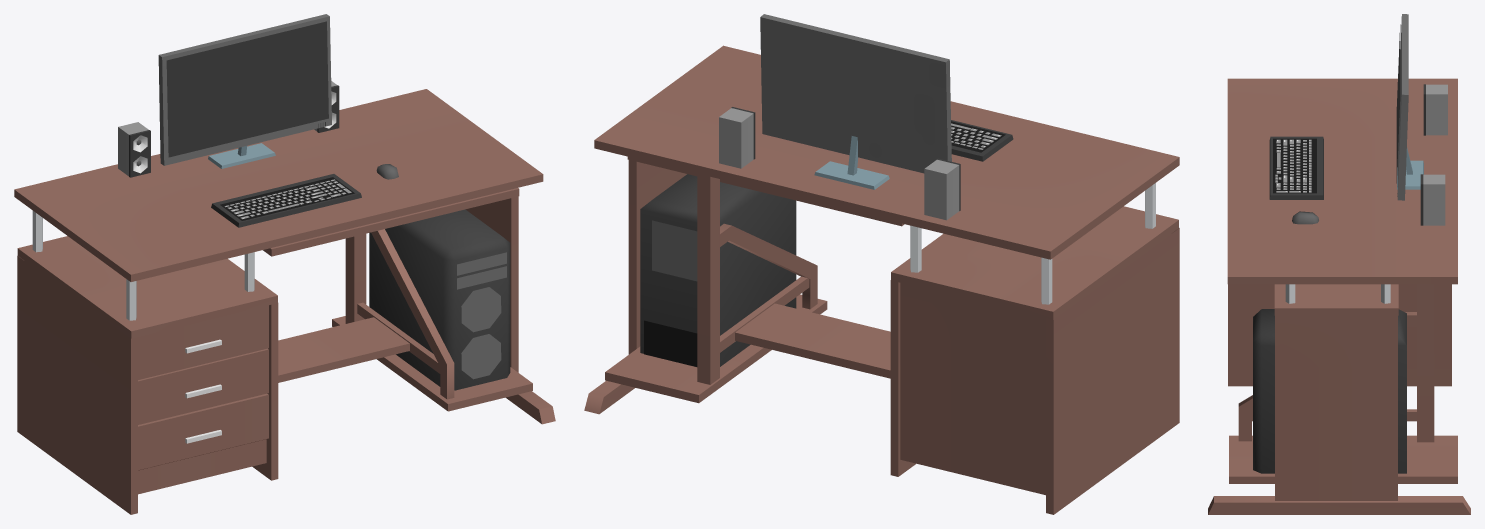
File: office_table_011.glb
The picture shows the model from 3 angles, left to right: view 1: azimuth 30°, elevation 25°; view 2: azimuth 150°, elevation 25°; view 3: azimuth 270°, elevation 25°; orthographic projection. The views are drawn at different scales.
Visible parts, largest first — view 1: office_table_011; view 2: office_table_011; view 3: office_table_011.
Boxes of the visible parts, x1,y1,x2,y2 form: office_table_011: (14, 14, 555, 514); office_table_011: (584, 14, 1179, 514); office_table_011: (1208, 14, 1470, 514).
Size of the model in its own units: 1.29 by 1.08 by 0.7161.
Materials: 1 (1 with a texture image).
